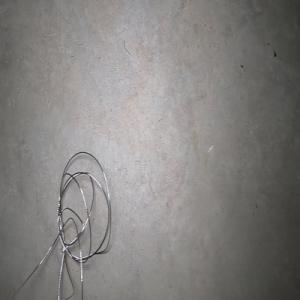Wire: (10, 151, 111, 300)
